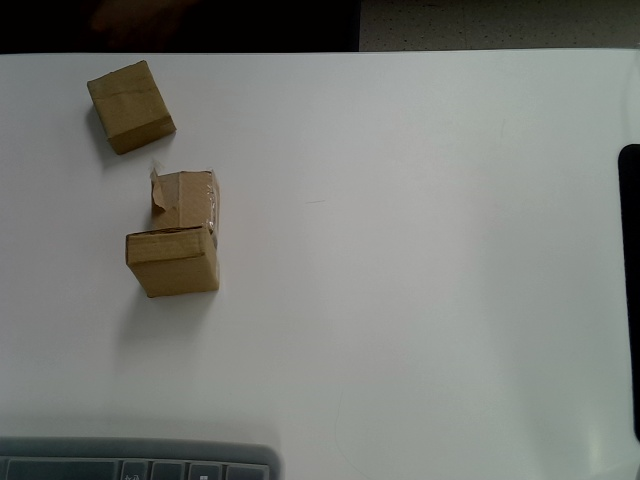defect: (146, 159, 219, 245)
normal: (87, 59, 178, 156), (125, 224, 219, 298)
